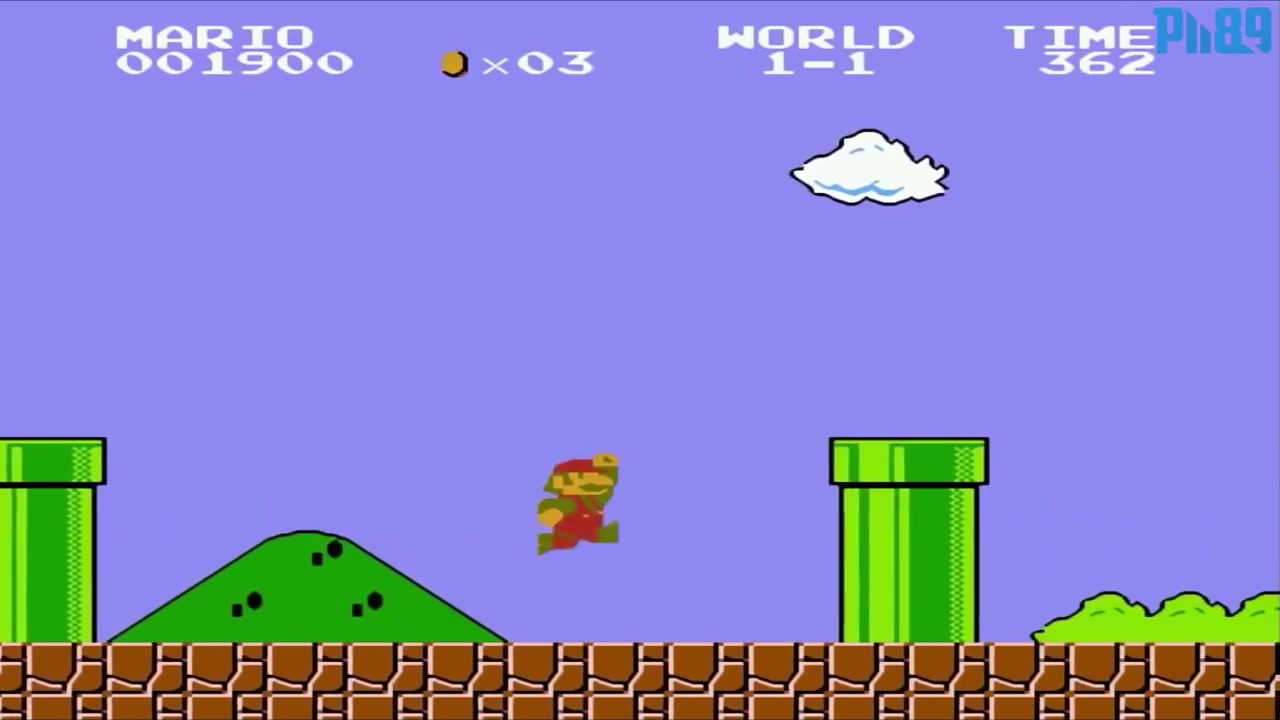mario: (532, 450, 628, 564)
